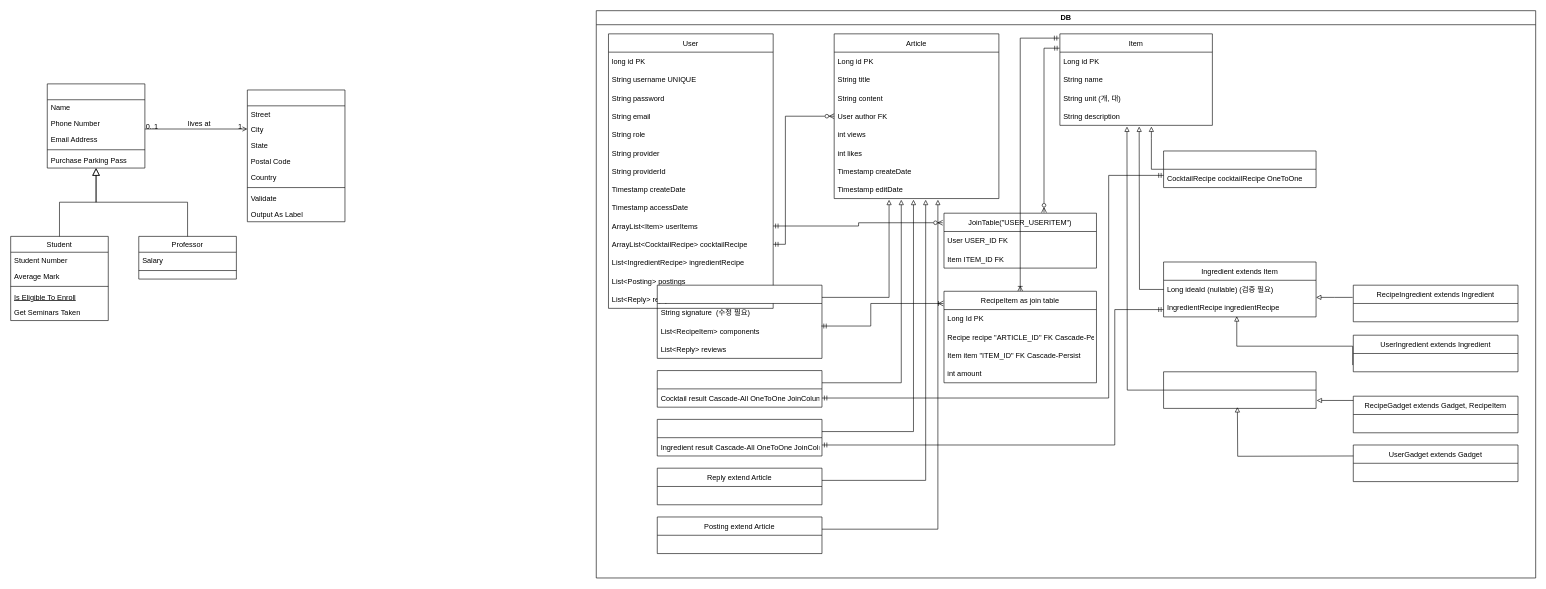
This 1546x589 diagram has some shape labels left out. The box of each missing label's shape, as (x1, y1, x2, y2) in pixels:
Address: (247, 89, 345, 222)
Cocktail extends Item: (1163, 150, 1316, 188)
CocktailRecipe extend Recipe: (657, 370, 822, 407)
Gadget extends Item: (1163, 371, 1316, 408)
IngredientRecipe extend Recipe: (657, 419, 822, 456)
Person: (47, 83, 145, 168)
Recipe extend Article: (657, 285, 822, 358)
